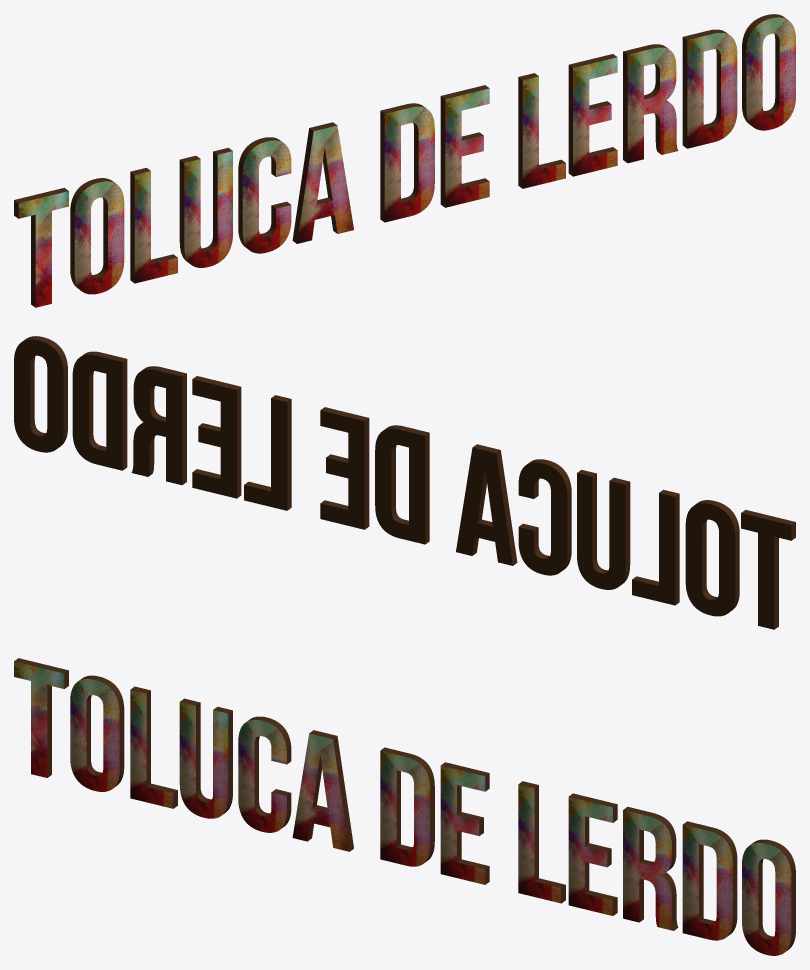
File: 3d_textura.glb
3 views of the same model, one above another, from view 1: azimuth 30°, elevation 25°; view 2: azimuth 150°, elevation 25°; view 3: azimuth 330°, elevation 25° (orthographic).
Parts seen in each view (by area): view 1: Texto; view 2: Texto; view 3: Texto.
Boxes of the visible parts, box(x1,y1,x2,y2) form: Texto: box(14, 14, 795, 307); Texto: box(14, 336, 795, 629); Texto: box(14, 658, 795, 955).
Size of the model in its own units: 0.996 by 0.1362 by 0.01.
3 materials, 1 textured.
